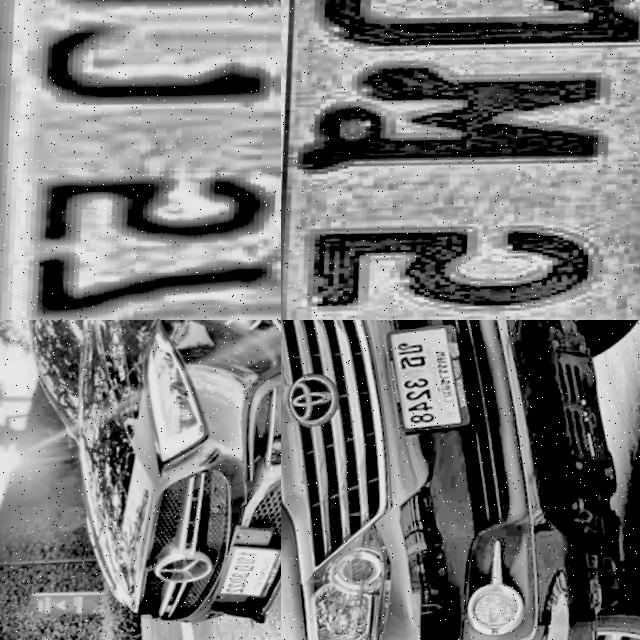license-plate: (281, 0, 640, 320), (0, 0, 281, 320), (370, 322, 481, 453), (205, 550, 281, 616)
